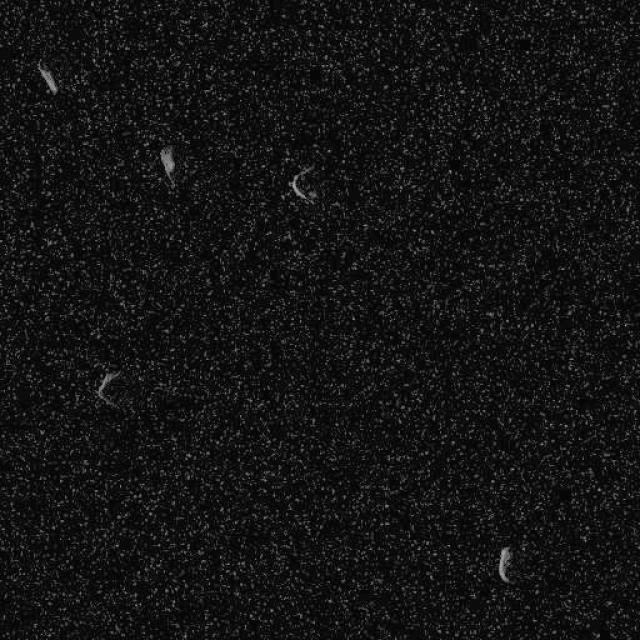D2: (288, 163, 320, 205), (94, 367, 121, 408), (36, 60, 58, 95), (157, 144, 175, 181), (497, 545, 512, 584)
